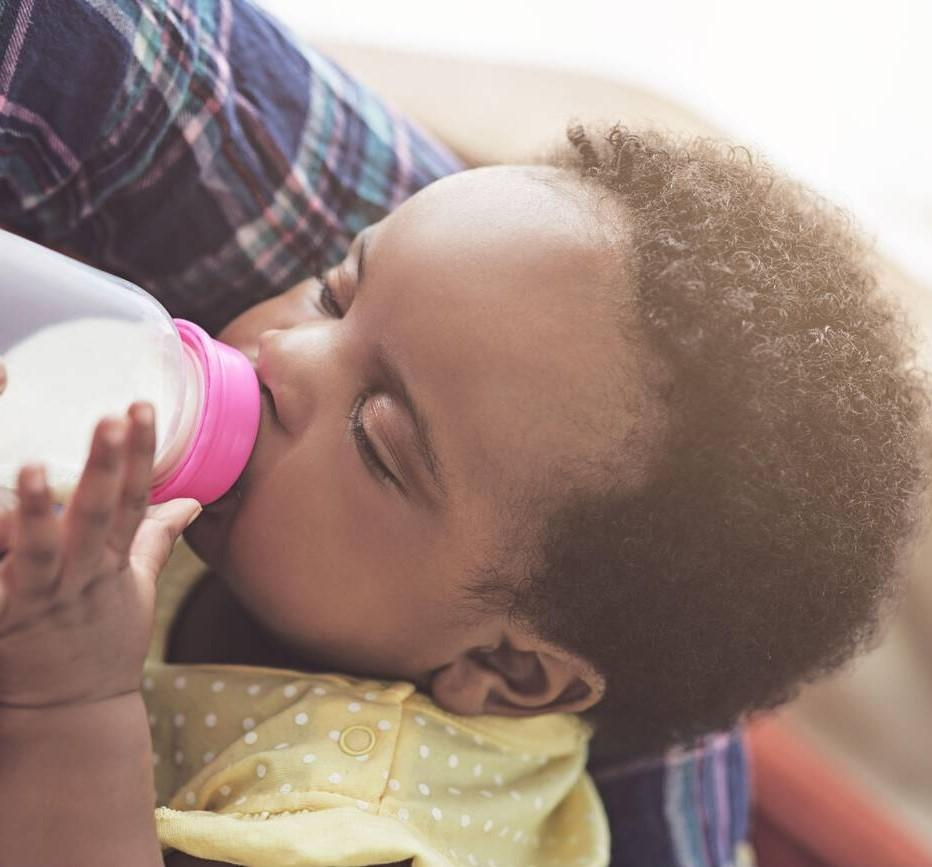Healthy: (143, 93, 896, 749)
